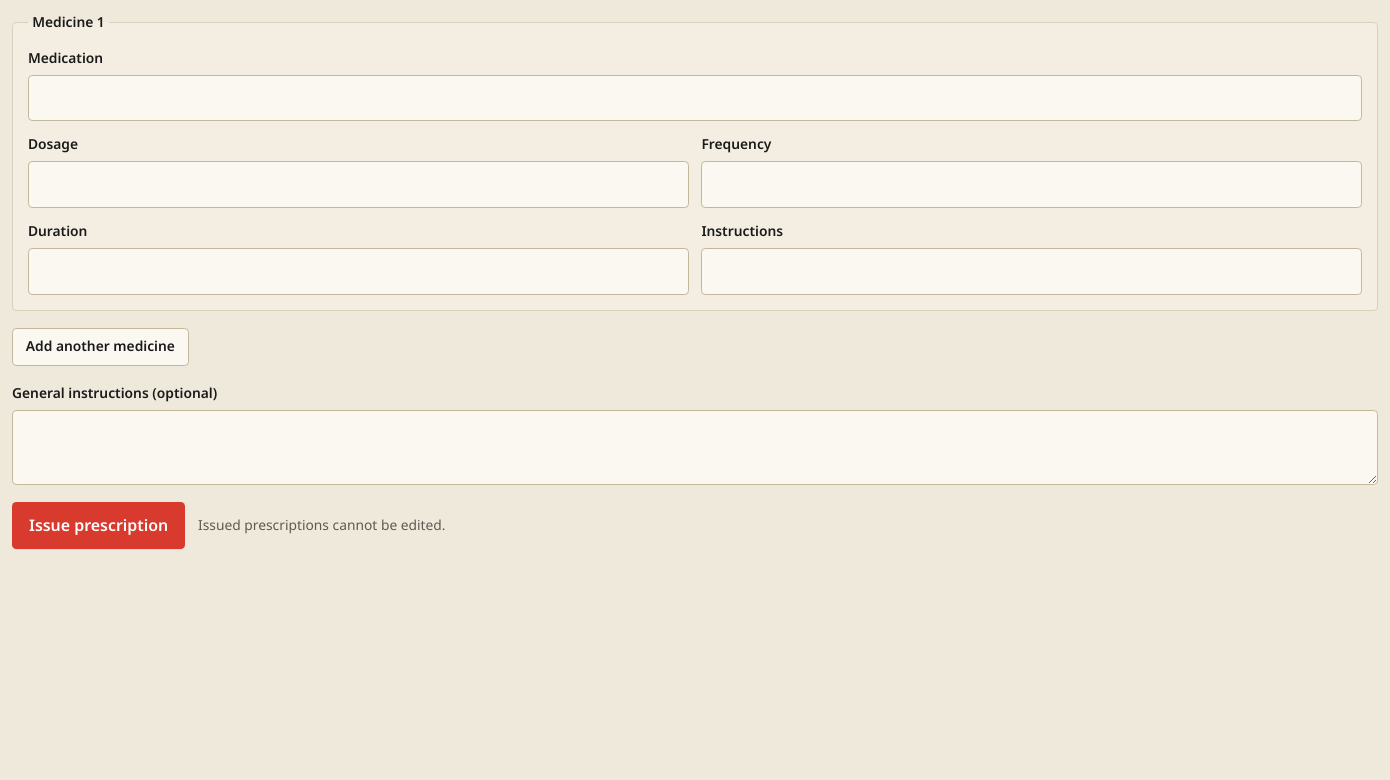
Test: PrescriptionForm › does not submit incomplete items
The image size is (1390, 780).
What coordinates should you click on to do the following:
click the button "Issue prescription"
I would click on:
 (99, 525)
Its box is [12, 502, 185, 549].
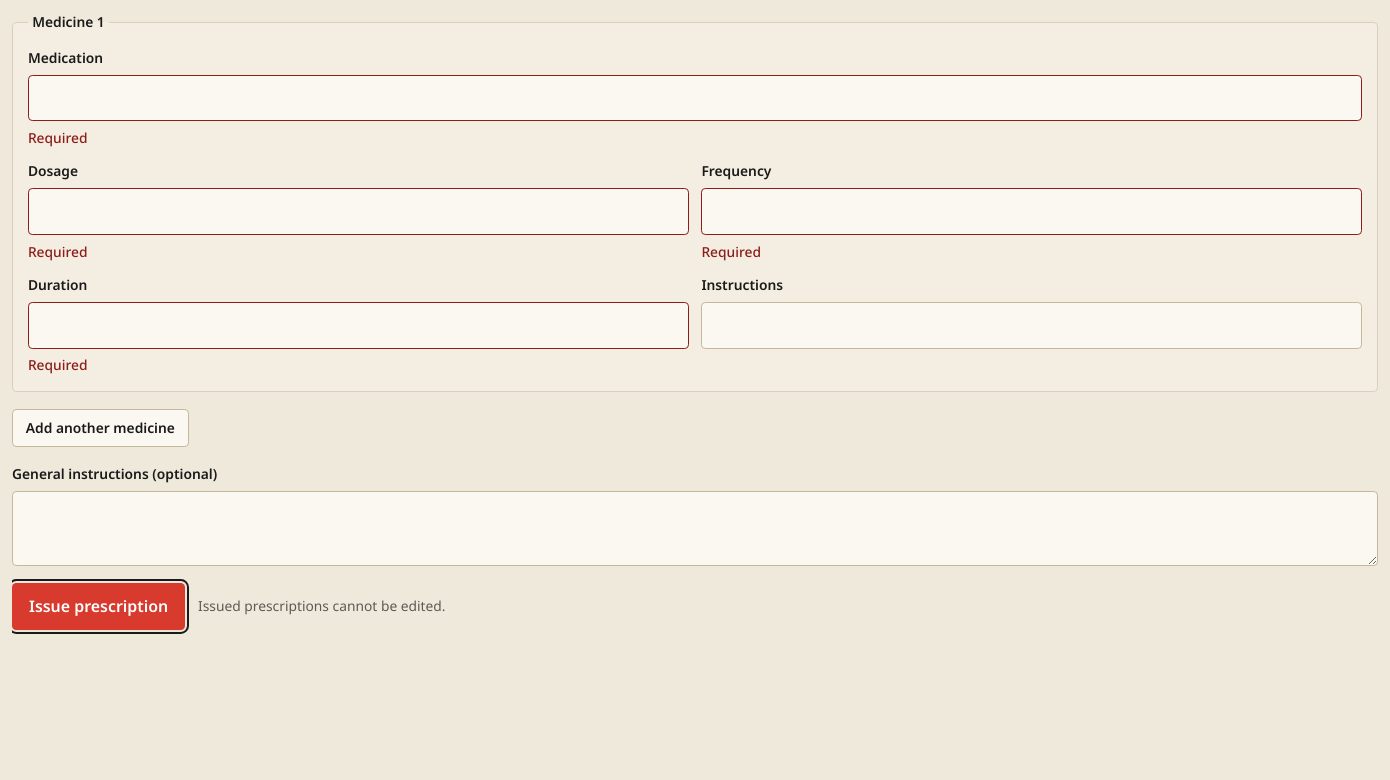
Result: the text "Required" is shown 4 times at [28, 128, 88, 147]; [28, 242, 88, 260]; [701, 242, 761, 260]; [28, 355, 88, 374]
